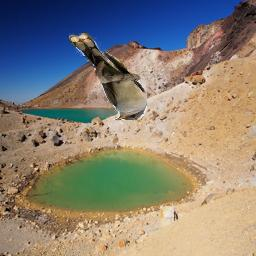Cuckoo: (69, 34, 147, 121)
